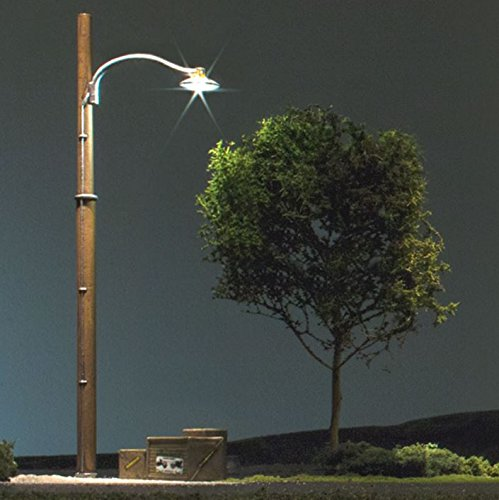light_pole: (63, 8, 101, 481)
